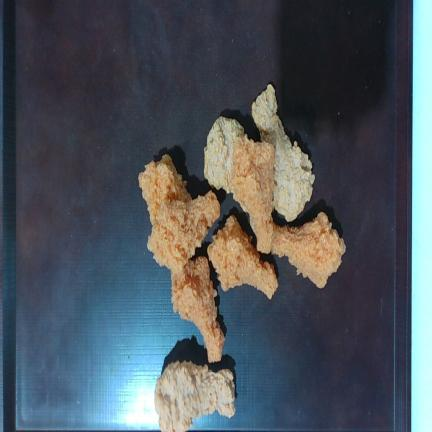chicken: (252, 85, 315, 221), (147, 191, 220, 272), (208, 215, 278, 299), (171, 256, 224, 362), (155, 361, 235, 431), (272, 212, 345, 288), (230, 137, 275, 252), (139, 155, 191, 224), (204, 116, 247, 193)
